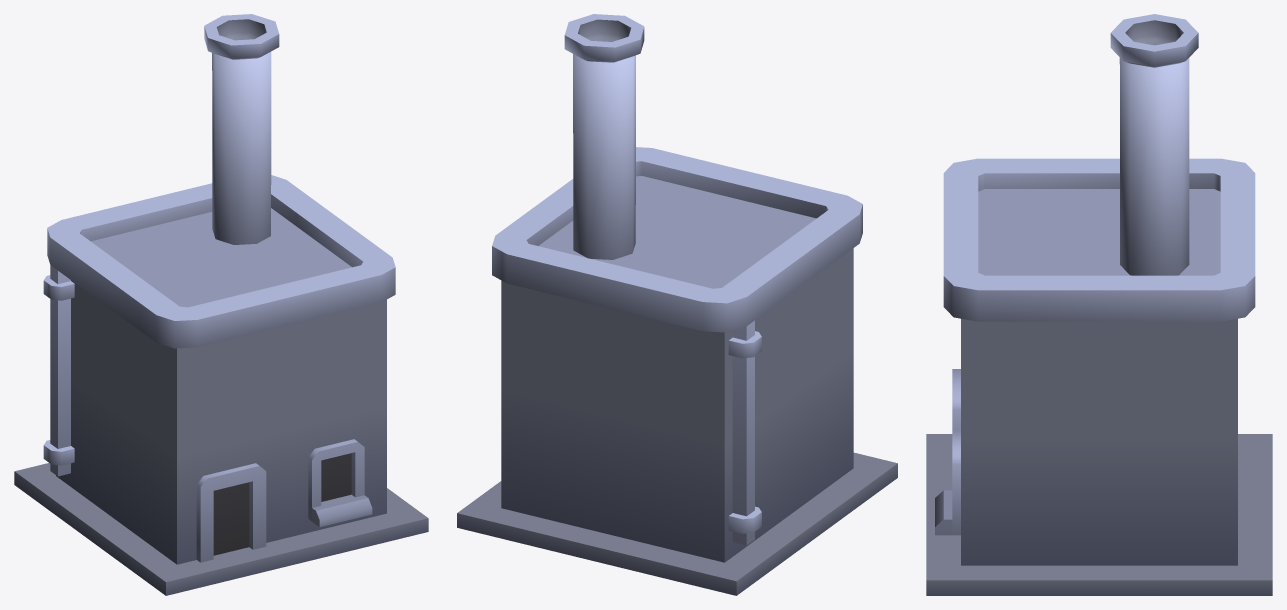
The model's file is factory.glb.
The picture shows the model from 3 angles, left to right: view 1: azimuth 30°, elevation 25°; view 2: azimuth 150°, elevation 25°; view 3: azimuth 270°, elevation 25°; orthographic projection. The views are drawn at different scales.
Parts seen in each view (by area): view 1: factory; view 2: factory; view 3: factory.
Part boxes in pixels (x1=…): factory: x1=14, y1=14, x2=428, y2=595; factory: x1=457, y1=14, x2=897, y2=595; factory: x1=926, y1=14, x2=1272, y2=595.
Size of the model in its own units: 1 by 1.64 by 1.
Materials: 1 (1 with a texture image).
